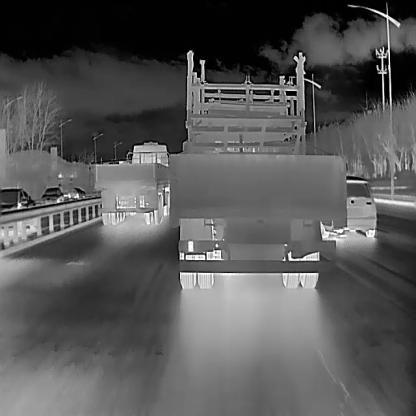car: (168, 92, 347, 288), (93, 142, 171, 225), (319, 174, 376, 239), (0, 185, 35, 225), (40, 186, 64, 205), (66, 186, 84, 200)
